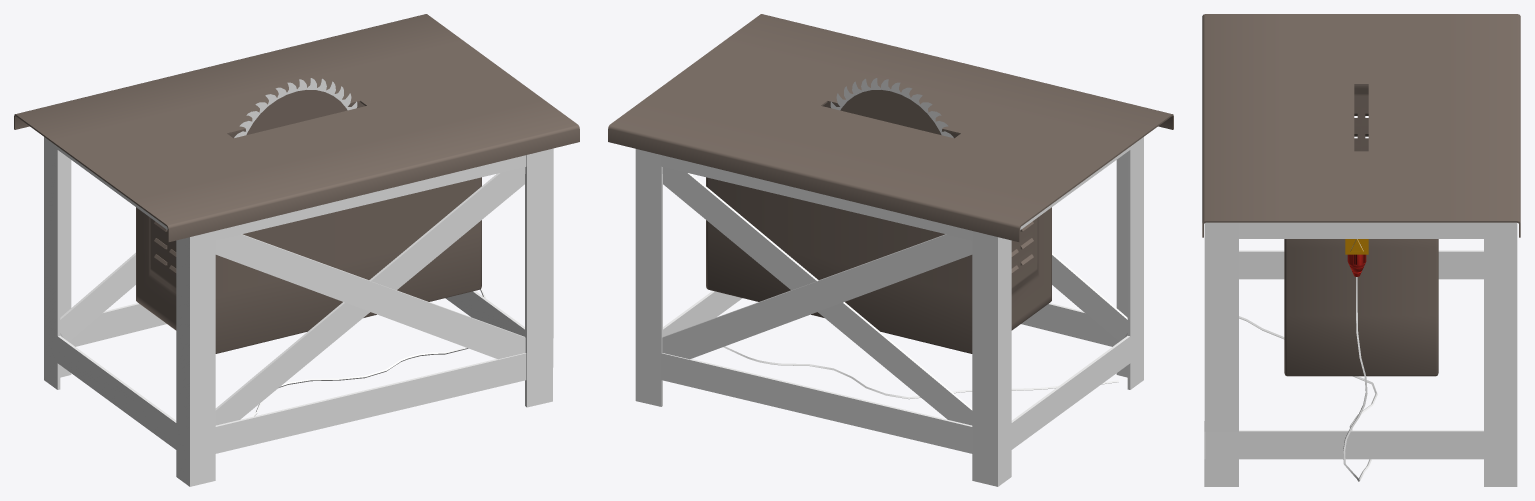
Rendered from krajzega_pila-vhbcca2.fbx.
The picture shows the model from 3 angles, left to right: view 1: azimuth 30°, elevation 25°; view 2: azimuth 150°, elevation 25°; view 3: azimuth 270°, elevation 25°; orthographic projection. The views are drawn at different scales.
Parts seen in each view (by area): view 1: krajzega; view 2: krajzega; view 3: krajzega.
Boxes of the visible parts, bbox=[...] form: krajzega: bbox=[14, 14, 579, 486]; krajzega: bbox=[608, 14, 1173, 486]; krajzega: bbox=[1202, 14, 1520, 486].
Bounding box in the file's own units: 160 × 116 × 104.
